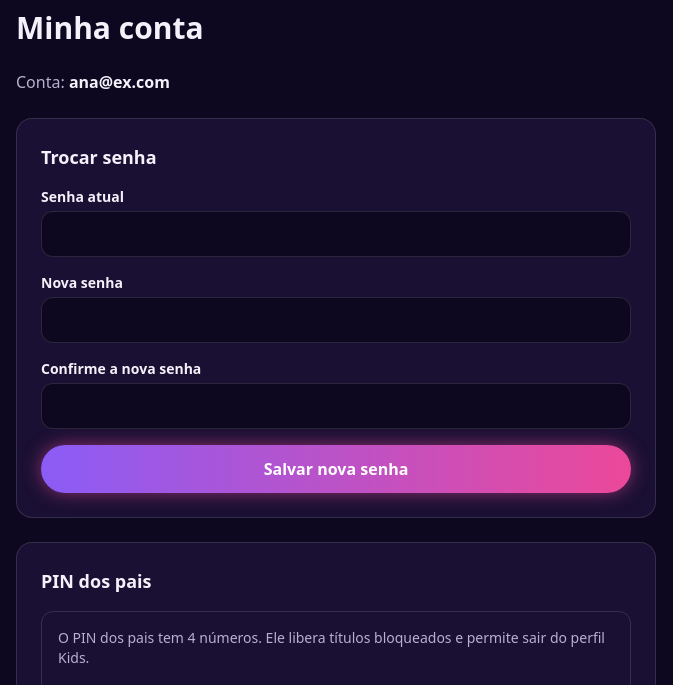
Minha conta › trocar senha mostra o resultado do servidor
Type "errada-123" into the password field labelled "Senha atual" at (336, 234), box [41,211,631,257]
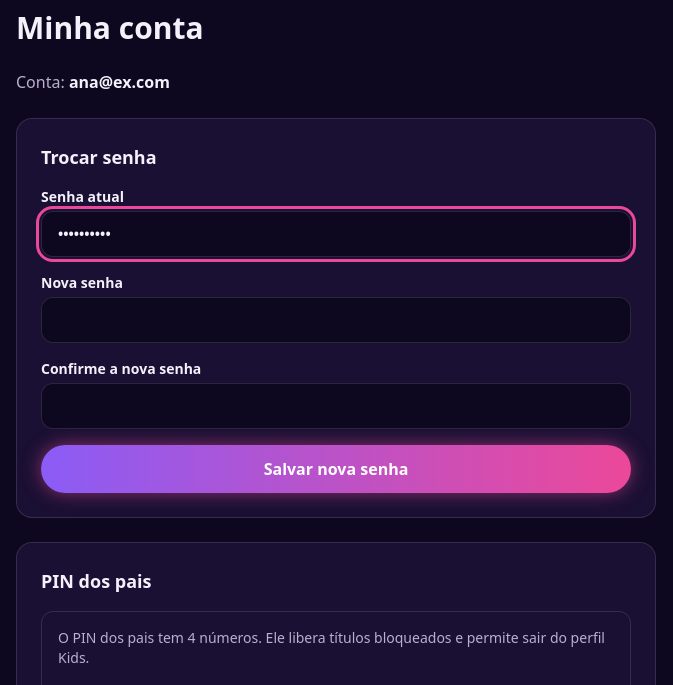
Type "nova-senha-123" into the password field labelled "Nova senha" at (336, 320), box [41,297,631,343]
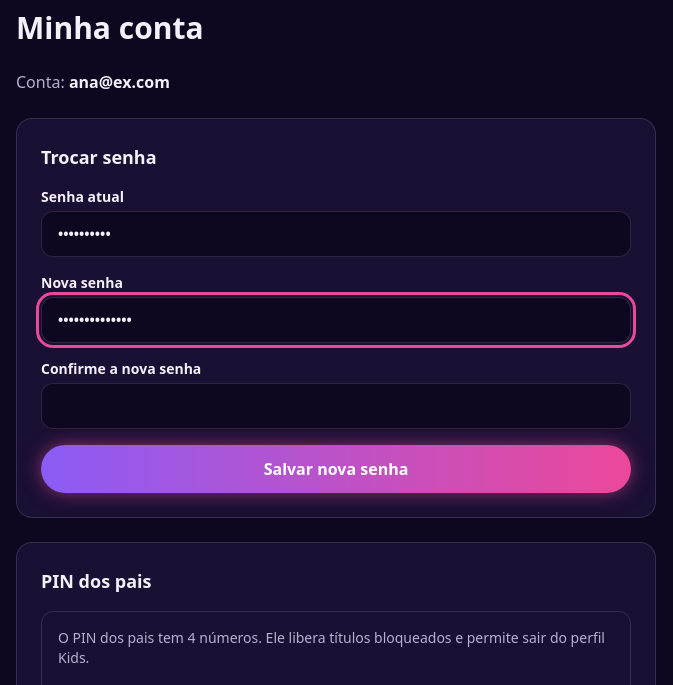
Type "nova-senha-123" into the password field labelled "Confirme a nova senha" at (336, 406), box [41,383,631,429]
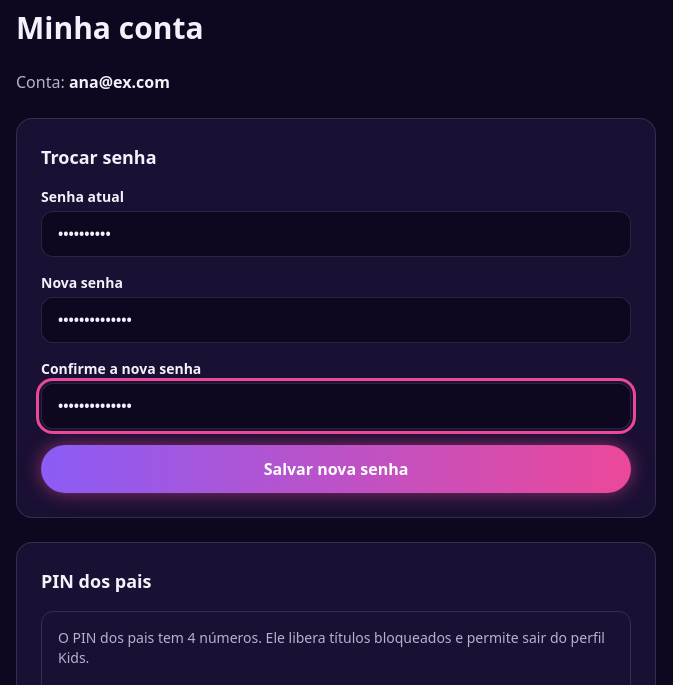
Click the button "Salvar nova senha" at (336, 469), box [41,445,631,493]
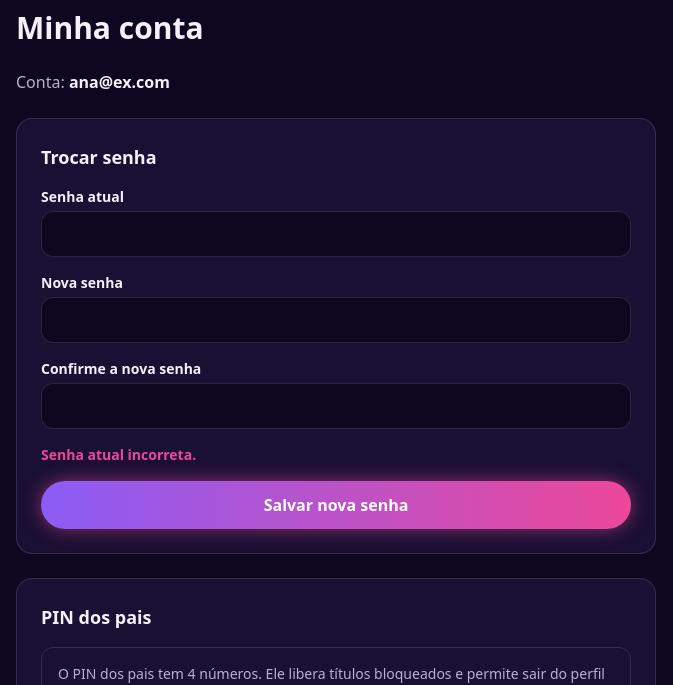
Expected: the text "Senha atual incorreta." is shown, [41,445,196,464]
